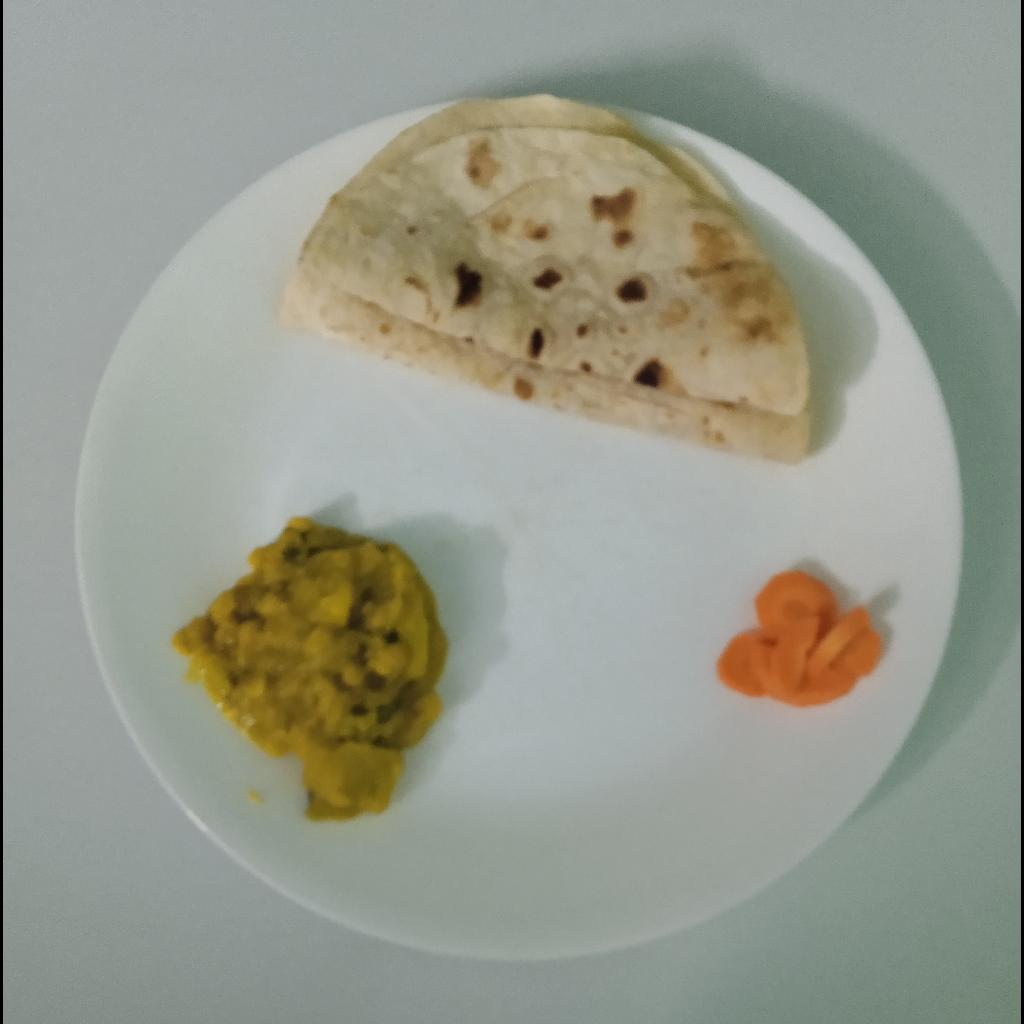carrot: (712, 573, 896, 709)
ruti: (275, 92, 818, 461)
vegetable: (179, 522, 453, 825)
